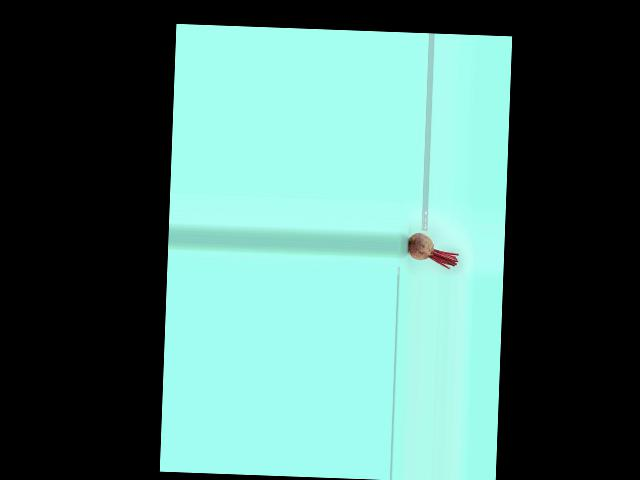beet: (407, 232, 458, 268)
